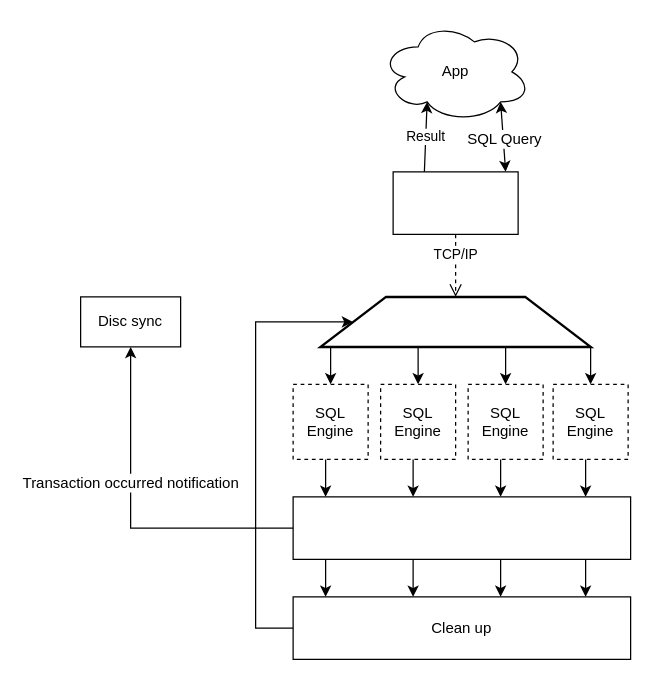
Some shapes in this 653 by 681 pixel diagram are drawn without their labels. Each missing label, with the box of its shape:
Connector/API: (392, 171, 518, 234)
Transaction Manager: (292, 496, 631, 559)
Work Manager: (319, 295, 591, 348)
